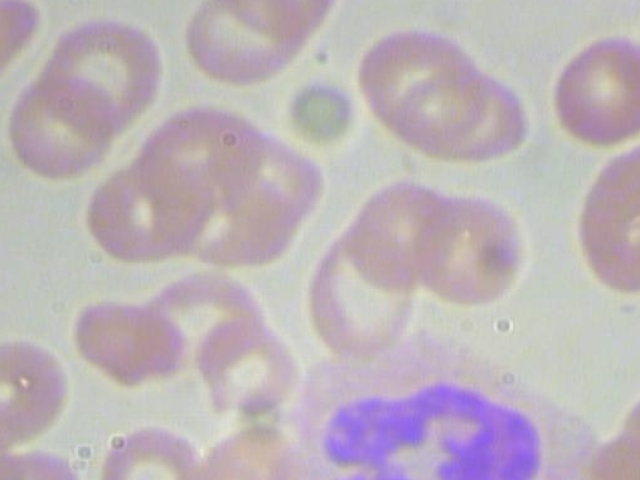RBC: (349, 14, 488, 146), (402, 188, 541, 313), (171, 0, 332, 95), (80, 152, 207, 266), (0, 72, 128, 184), (41, 10, 161, 126), (206, 132, 336, 229), (536, 34, 640, 155), (565, 140, 640, 302), (185, 317, 302, 419), (70, 296, 188, 391), (179, 177, 299, 268), (601, 336, 603, 338)
WBC: (273, 324, 609, 480)
